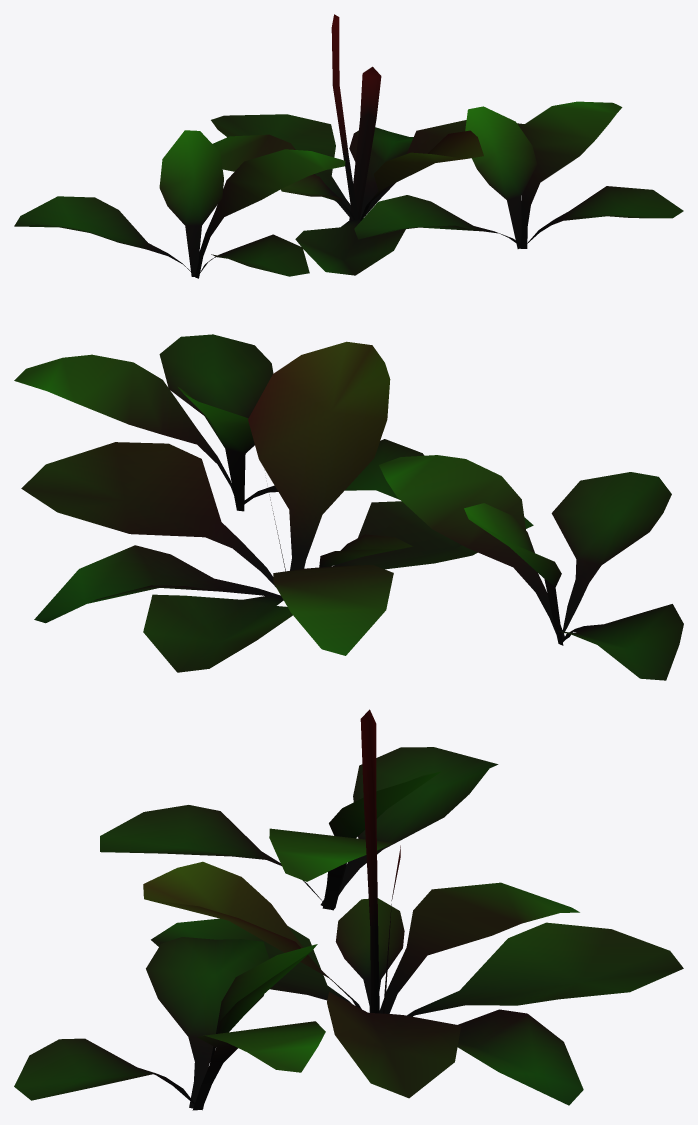
File: Terrain_Grass_02.fbx
The picture shows the model from 3 angles, top to bottom: view 1: azimuth 30°, elevation 25°; view 2: azimuth 150°, elevation 25°; view 3: azimuth 270°, elevation 25°; orthographic projection. The views are drawn at different scales.
Parts seen in each view (by area): view 1: SM_Plant_Grass_Plantain_04; view 2: SM_Plant_Grass_Plantain_04; view 3: SM_Plant_Grass_Plantain_04.
Part boxes in pixels (bbox=[...]): SM_Plant_Grass_Plantain_04: bbox=[14, 14, 683, 278]; SM_Plant_Grass_Plantain_04: bbox=[14, 334, 683, 680]; SM_Plant_Grass_Plantain_04: bbox=[14, 709, 683, 1110].
Size of the model in its own units: 399 by 158 by 306.
